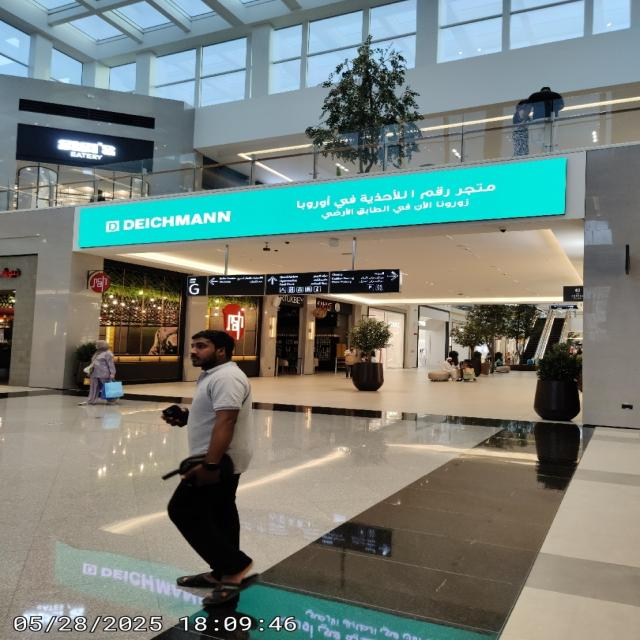rectangle-wide-board: (75, 158, 564, 247)
